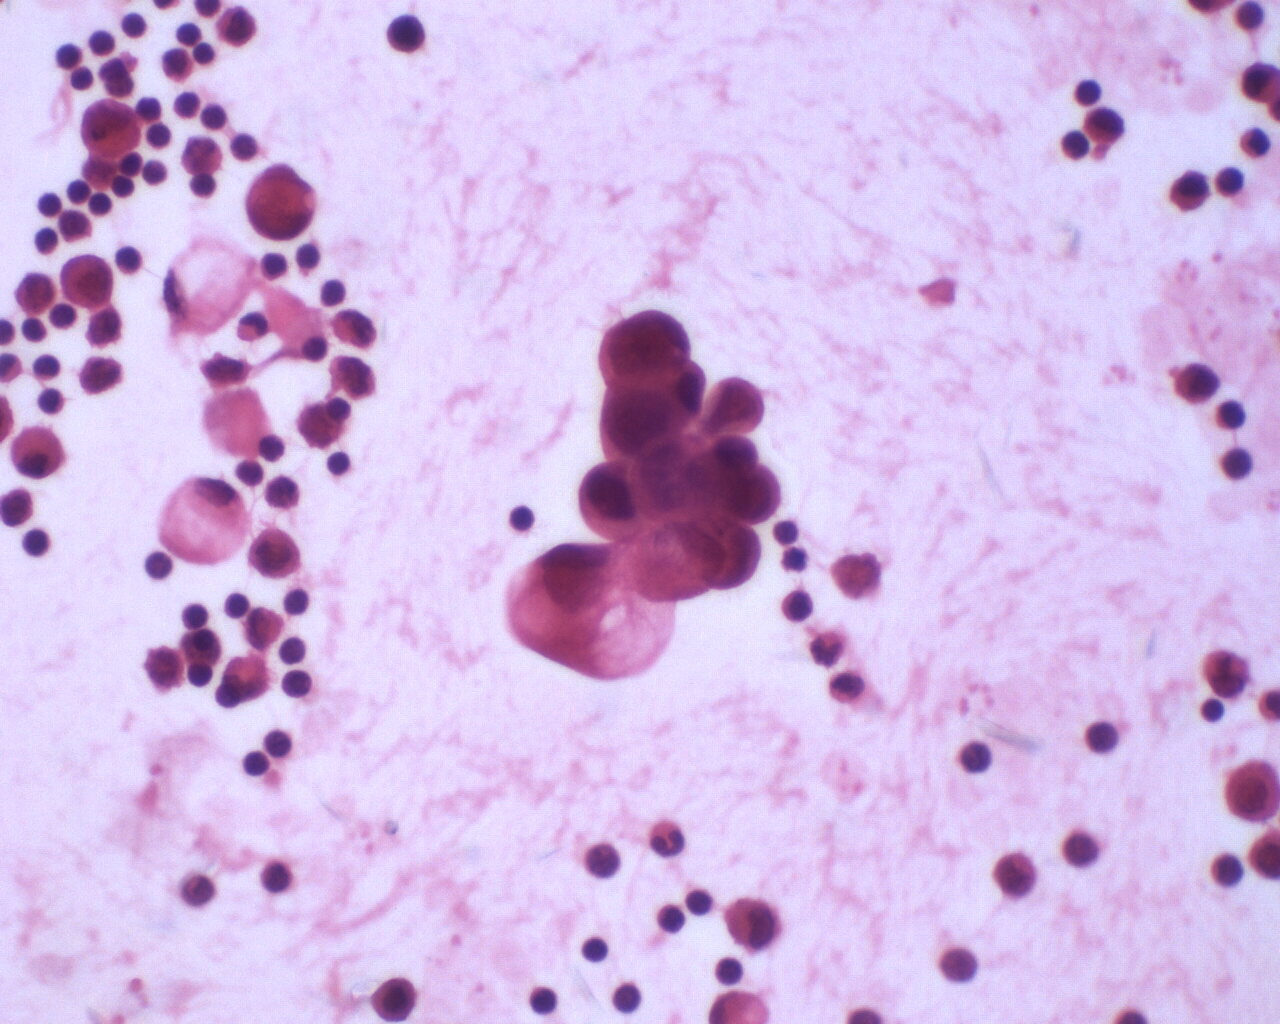ab: (594, 308, 692, 395), (241, 162, 321, 247), (576, 460, 646, 542), (702, 375, 768, 439), (721, 460, 785, 523), (53, 250, 117, 311), (78, 98, 141, 160), (10, 420, 69, 482), (245, 527, 305, 584), (215, 1, 260, 46)
histo: (159, 232, 258, 338), (154, 476, 259, 571)
lymph: (711, 955, 751, 991), (19, 523, 54, 562), (578, 932, 612, 969), (180, 599, 214, 633), (199, 101, 232, 135), (37, 383, 68, 418), (34, 189, 65, 224), (118, 10, 149, 43), (1073, 77, 1106, 109), (509, 502, 539, 535), (281, 588, 313, 619), (1057, 127, 1087, 161), (529, 985, 559, 1017), (323, 449, 352, 481), (53, 43, 87, 70), (223, 591, 253, 621), (186, 171, 218, 199), (1201, 696, 1225, 729)
meso: (1223, 744, 1280, 825), (368, 970, 426, 1024)
neutro: (646, 815, 691, 860)
